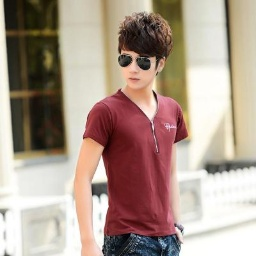face: (116, 11, 175, 90)
